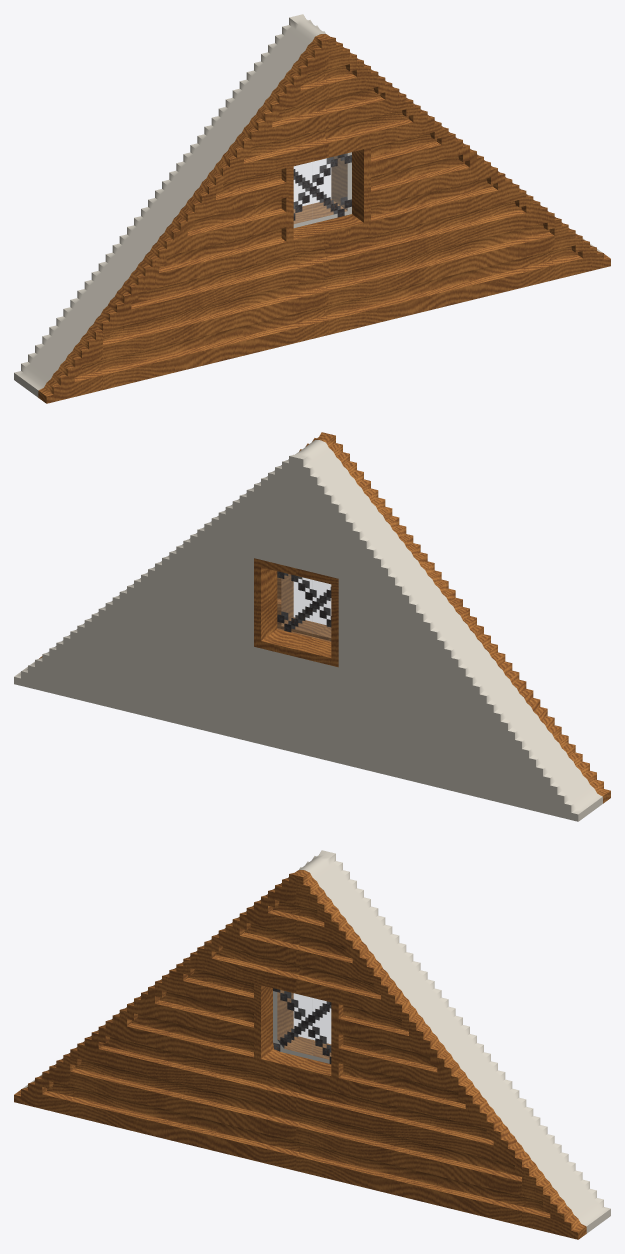
File: roof_attic_gable_plank.glb
3 renders of one model, top to bottom at view 1: azimuth 30°, elevation 25°; view 2: azimuth 150°, elevation 25°; view 3: azimuth 330°, elevation 25°, orthographic.
Parts seen in each view (by area): view 1: town_roof_attic_gable_plank; view 2: town_roof_attic_gable_plank; view 3: town_roof_attic_gable_plank.
Part boxes in pixels (left/top/right/bottom): town_roof_attic_gable_plank: left=14, top=14, right=610, bottom=403; town_roof_attic_gable_plank: left=14, top=432, right=610, bottom=821; town_roof_attic_gable_plank: left=14, top=850, right=610, bottom=1239.
Bounding box in the file's own units: 2.5 × 1.25 × 0.25.
Materials: 3 (1 with a texture image).
